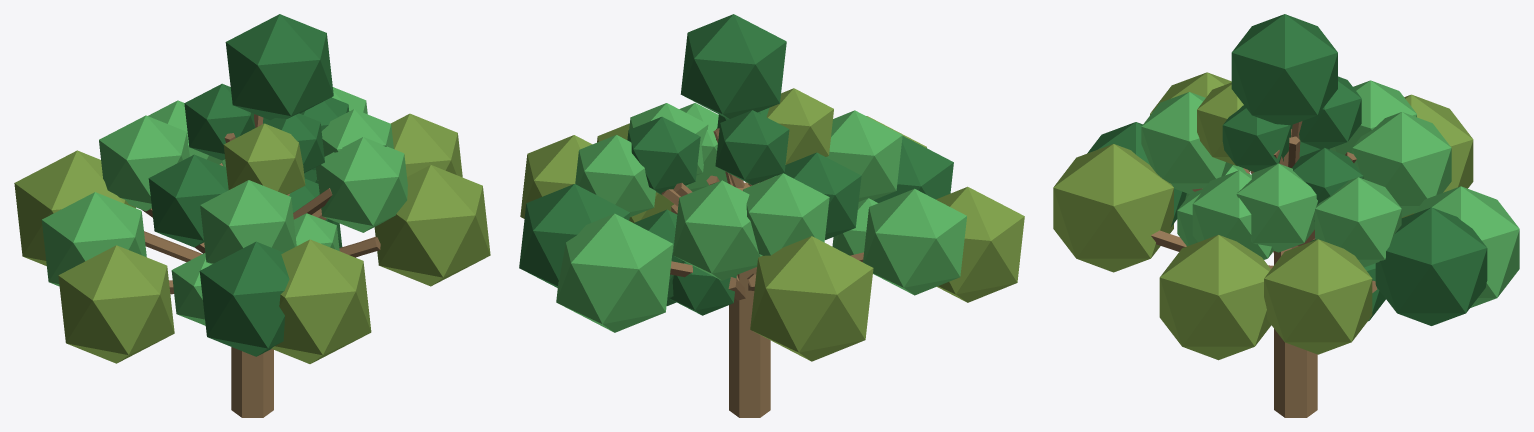
The model's file is Tree_04.glb.
3 views of the same model, side by side, from view 1: azimuth 30°, elevation 25°; view 2: azimuth 150°, elevation 25°; view 3: azimuth 270°, elevation 25° (orthographic). The views are drawn at different scales.
Parts seen in each view (by area): view 1: T04_Sphere_08, T04_Sphere_05, T04_Sphere_03, T04_Sphere_09, T04_Sphere_13, T04_Sphere_14, T04_Sphere_12, T04_Sphere_18, T04_Sphere_20, T04_Sphere_07, T04_Sphere_17, T04_Sphere_23 (+14 smaller); view 2: T04_Sphere_07, T04_Sphere_11, T04_Sphere_03, T04_Sphere_12, T04_Sphere_16, T04_Sphere_08, T04_Sphere_06, T04_Sphere_20, T04_Trunk, T04_Sphere_18, T04_Sphere_22, T04_Sphere_15 (+11 smaller); view 3: T04_Sphere_09, T04_Sphere_05, T04_Sphere_06, T04_Sphere_10, T04_Sphere_03, T04_Sphere_16, T04_Sphere_15, T04_Sphere_18, T04_Sphere_19, T04_Sphere_11, T04_Sphere_14, T04_Trunk (+10 smaller).
Part boxes in pixels (box(x1,y1,x2,y2)): T04_Sphere_08: box(58, 245, 174, 363); T04_Sphere_05: box(374, 165, 490, 286); T04_Sphere_03: box(225, 14, 333, 120); T04_Sphere_09: box(271, 239, 371, 363); T04_Sphere_13: box(199, 241, 289, 356); T04_Sphere_14: box(316, 137, 407, 232); T04_Sphere_12: box(41, 192, 146, 286); T04_Sphere_18: box(200, 180, 296, 264); T04_Sphere_20: box(99, 115, 189, 211); T04_Sphere_07: box(14, 150, 135, 265); T04_Sphere_17: box(148, 154, 228, 247); T04_Sphere_23: box(223, 123, 305, 194); T04_Sphere_07: box(750, 236, 873, 361); T04_Sphere_11: box(556, 213, 673, 332); T04_Sphere_03: box(680, 14, 786, 119); T04_Sphere_12: box(863, 188, 966, 295); T04_Sphere_16: box(673, 180, 762, 280); T04_Sphere_08: box(936, 186, 1024, 302); T04_Sphere_06: box(519, 184, 629, 287); T04_Sphere_20: box(743, 173, 829, 255); T04_Trunk: box(729, 182, 770, 417); T04_Sphere_18: box(826, 110, 902, 201); T04_Sphere_22: box(715, 110, 789, 185); T04_Sphere_15: box(575, 135, 655, 217); T04_Sphere_09: box(1053, 144, 1173, 272); T04_Sphere_05: box(1159, 235, 1271, 360); T04_Sphere_06: box(1375, 207, 1487, 325); T04_Sphere_10: box(1264, 239, 1372, 354); T04_Sphere_03: box(1231, 14, 1337, 125); T04_Sphere_16: box(1352, 112, 1451, 217); T04_Sphere_15: box(1315, 177, 1401, 267); T04_Sphere_18: box(1141, 92, 1232, 193); T04_Sphere_19: box(1236, 163, 1317, 252); T04_Sphere_11: box(1414, 186, 1519, 307); T04_Sphere_14: box(1192, 170, 1274, 259); T04_Trunk: box(1274, 238, 1317, 417).
Bounding box in the file's own units: 2.91 × 2.46 × 2.56.
